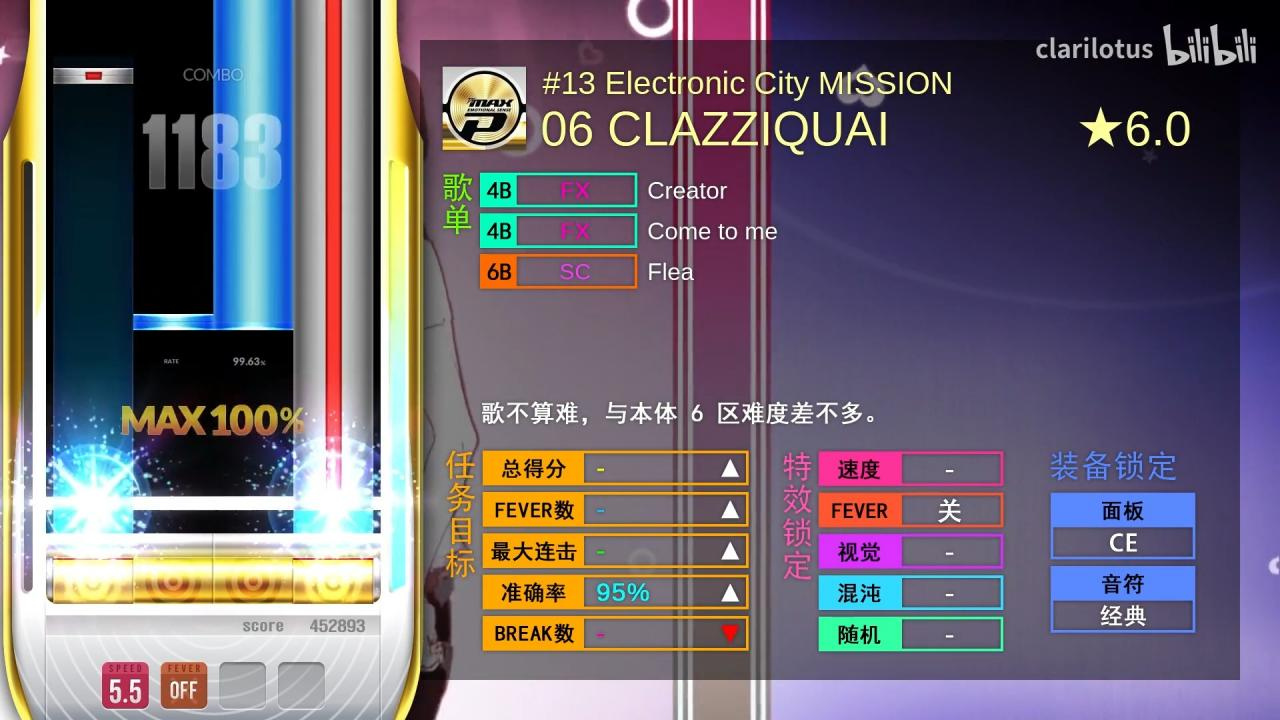note: (214, 312, 296, 330), (53, 67, 133, 84), (134, 314, 214, 330)
